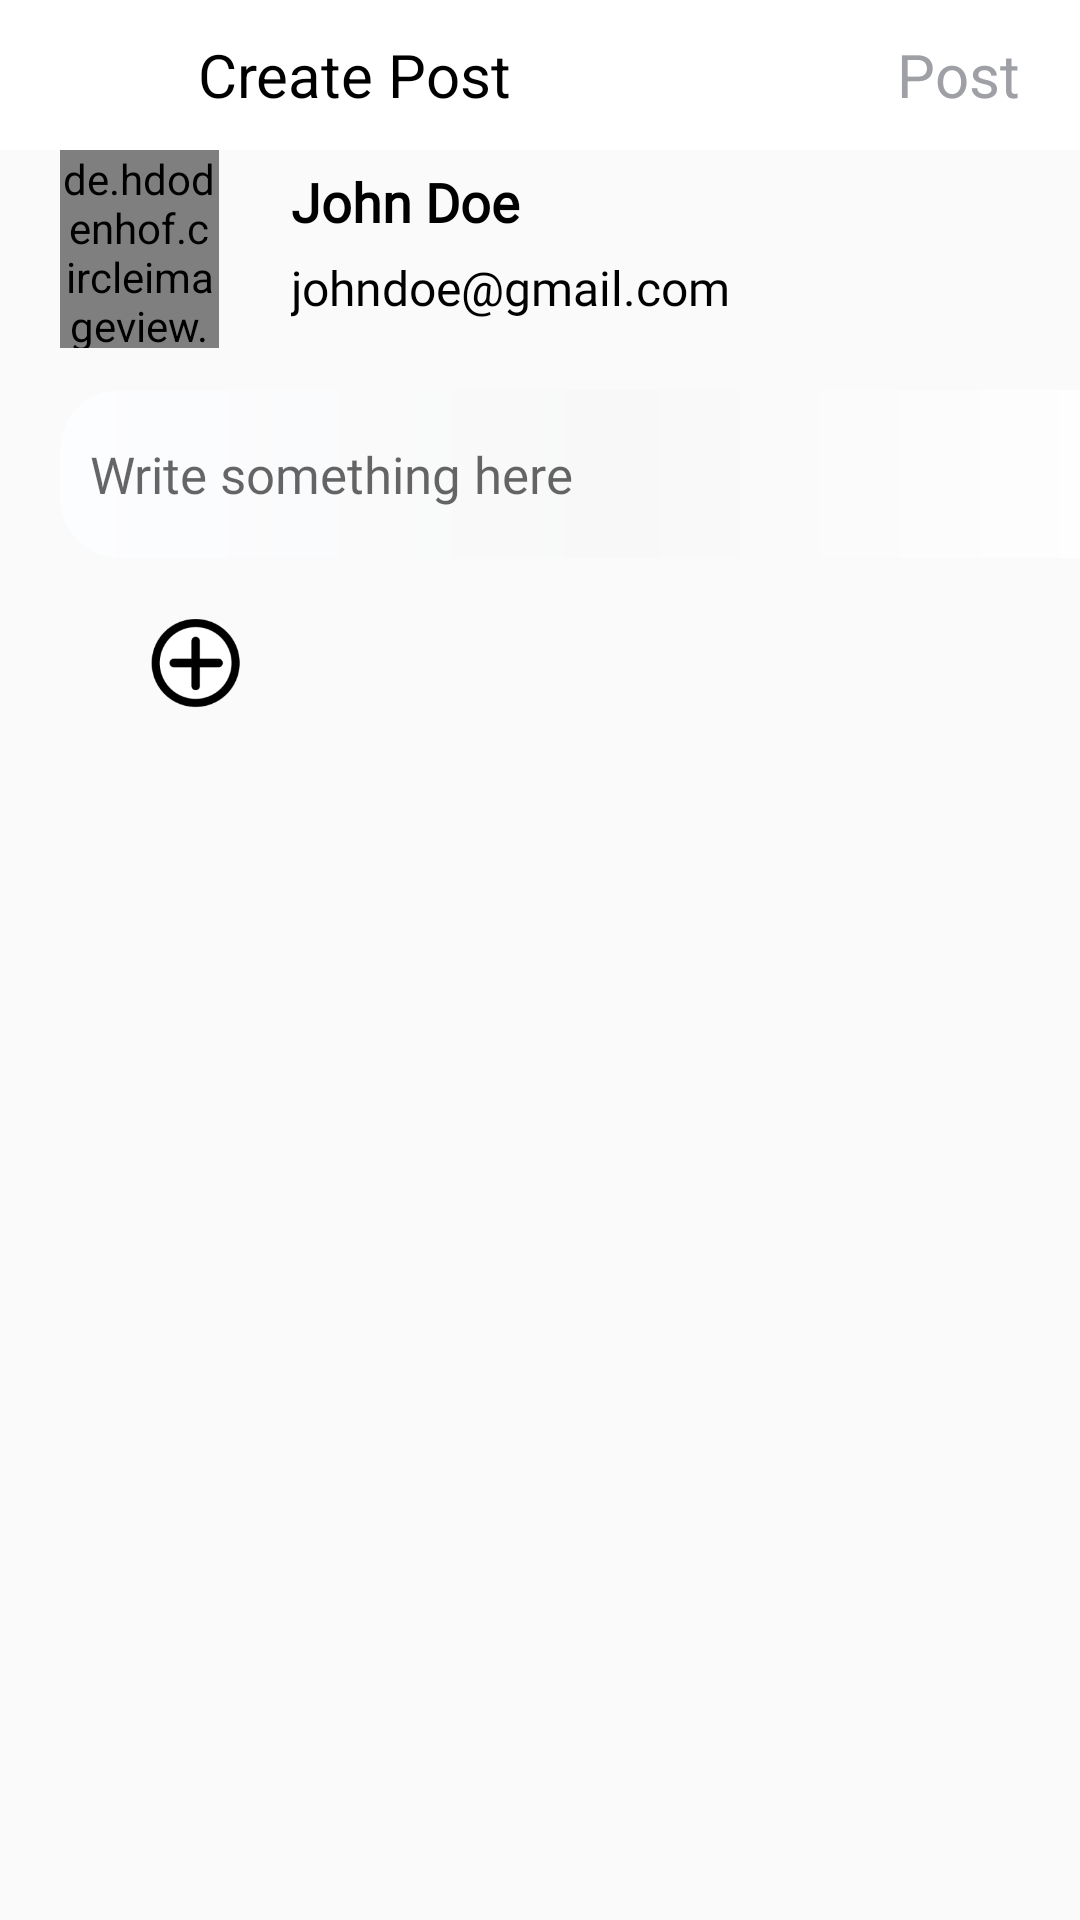

Where to tap for icons on this 1080×1920 app screen, as (x=x, y=y):
addone: (x=195, y=663)
